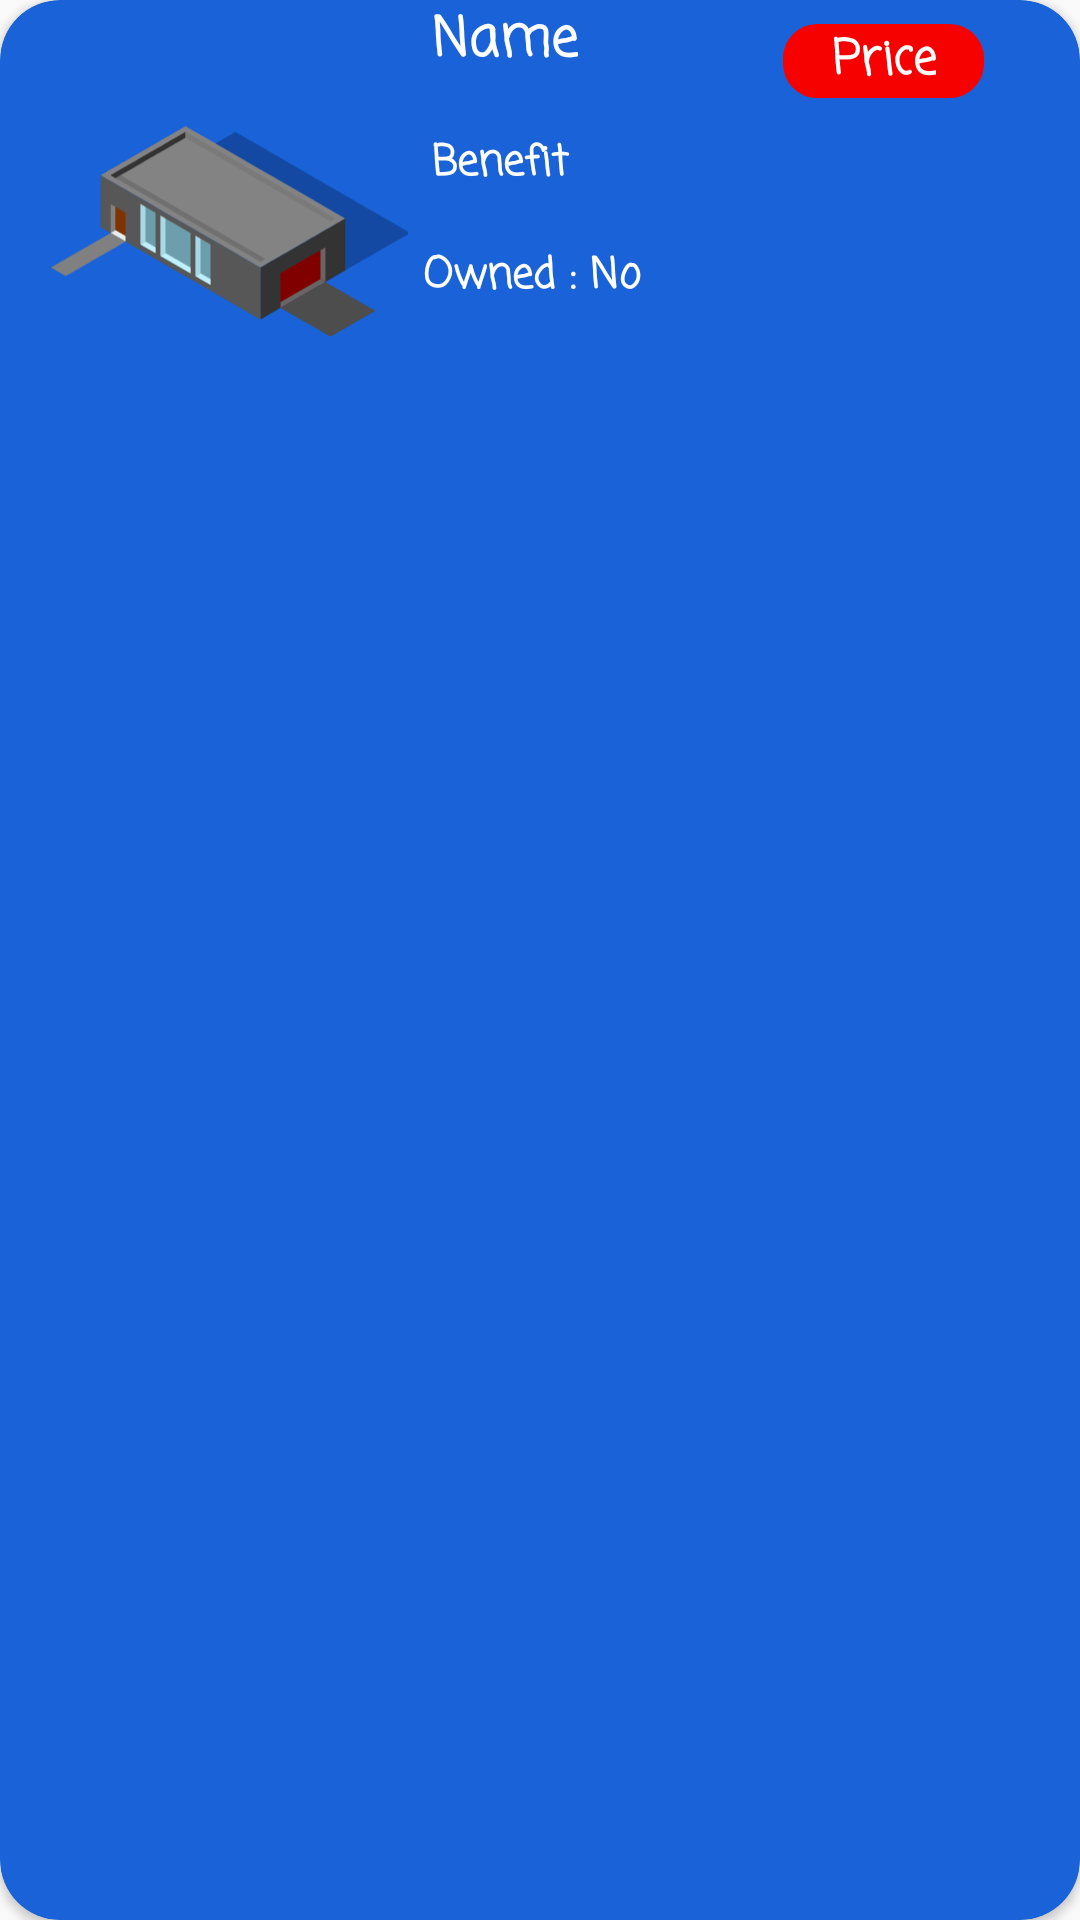

Icons on this 1080px x 1920px Android screen, each with its box as (x1=x1, y1=y1, x2=x2, y2=y2):
second house: (x1=51, y1=126, x2=408, y2=336)
